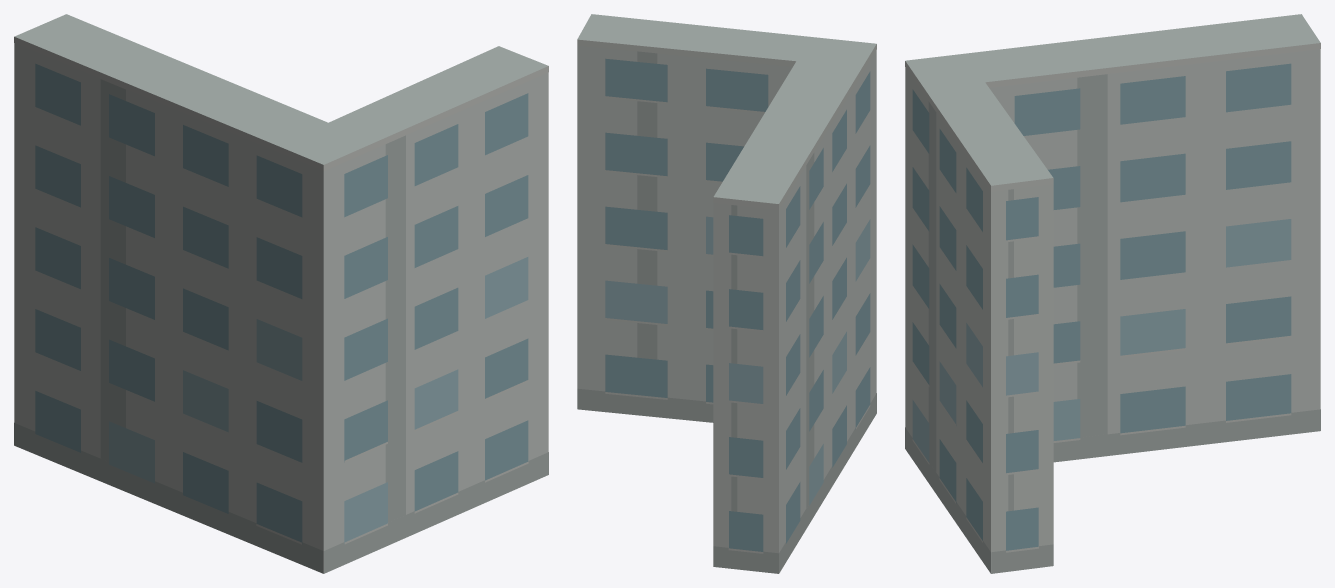
Rendered from survey-upis-32675391.glb.
The picture shows the model from 3 angles, left to right: view 1: azimuth 30°, elevation 25°; view 2: azimuth 150°, elevation 25°; view 3: azimuth 270°, elevation 25°; orthographic projection. The views are drawn at different scales.
Parts seen in each view (by area): view 1: survey-upis-32675391.tmp; view 2: survey-upis-32675391.tmp; view 3: survey-upis-32675391.tmp.
Boxes of the visible parts, x1,y1,x2,y2 form: survey-upis-32675391.tmp: (14, 14, 548, 573); survey-upis-32675391.tmp: (577, 14, 876, 573); survey-upis-32675391.tmp: (905, 14, 1320, 573).
Size of the model in its own units: 14.49 by 15.25 by 14.81.
